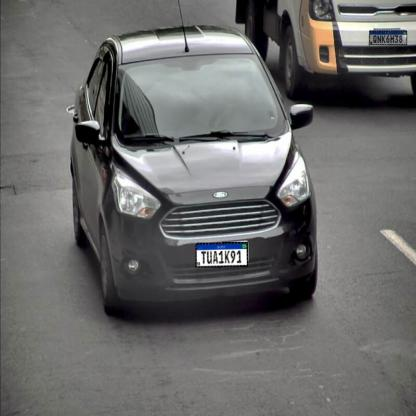PlacaM: (196, 242, 248, 268), (369, 31, 407, 45)
